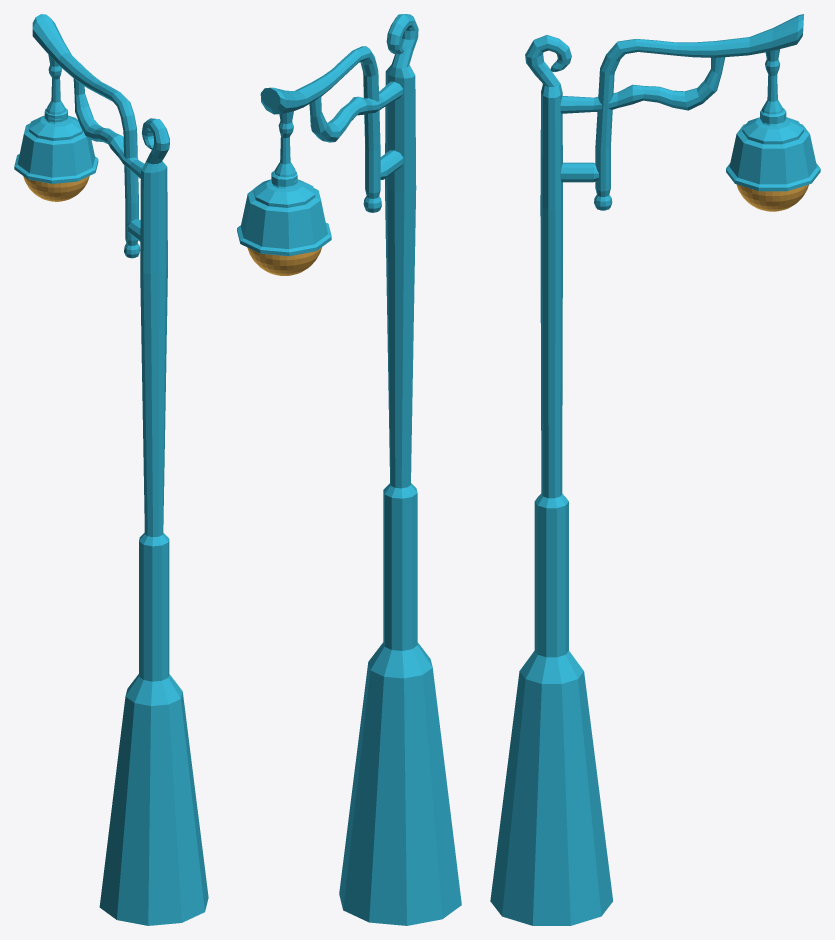
File: lampadaire 2.fbx
3 renders of one model, left to right at view 1: azimuth 30°, elevation 25°; view 2: azimuth 150°, elevation 25°; view 3: azimuth 270°, elevation 25°, orthographic. The views are drawn at different scales.
Parts seen in each view (by area): view 1: Circle.001; view 2: Circle.001; view 3: Circle.001.
Boxes of the visible parts, x1,y1,x2,y2 form: Circle.001: [14, 14, 208, 925]; Circle.001: [237, 14, 461, 925]; Circle.001: [490, 14, 820, 925].
Bounding box in the file's own units: 300 × 106 × 888.
Materials: 1 (1 with a texture image).
